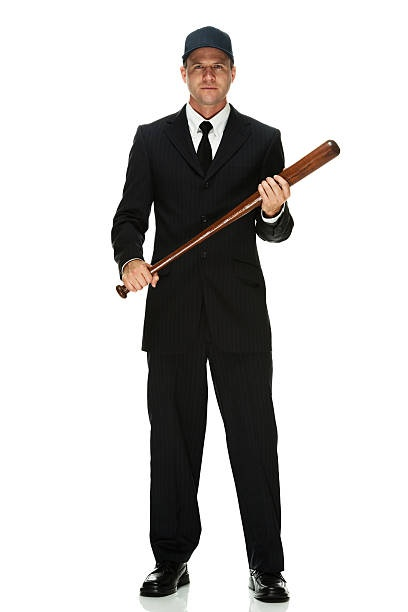bita: (115, 144, 342, 295)
